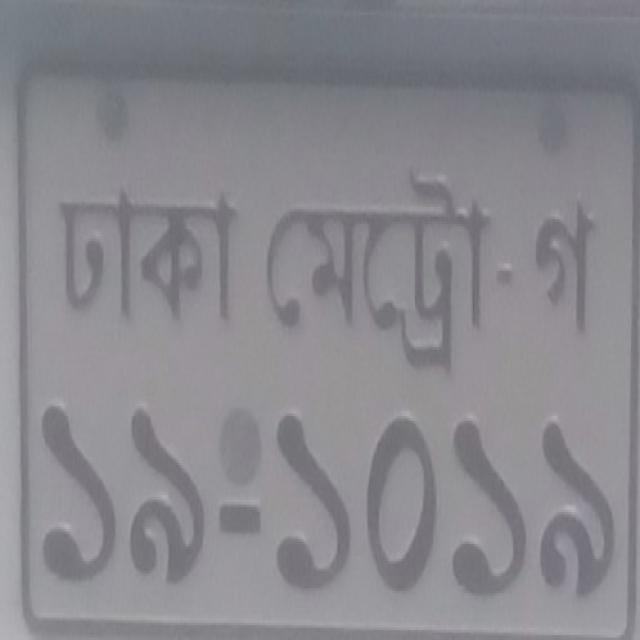cng: (265, 169, 492, 373), (59, 186, 236, 323)
numberplate: (4, 3, 637, 636)
